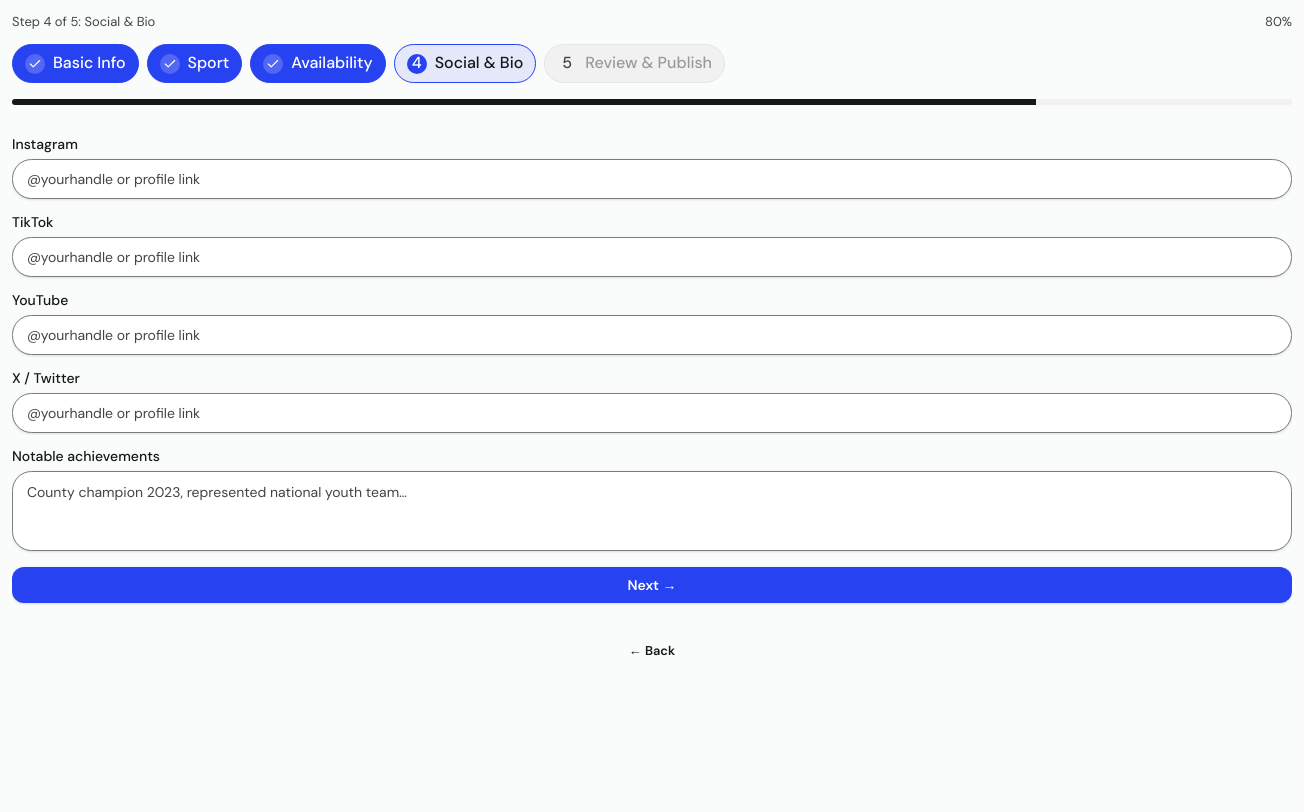
Test: ProfileWizard › step 4: rejects a wrong-host URL with a validation message and no save
Step 1. Type "https://facebook.com/jane" into the field labelled "Instagram" → (652, 179), box [12, 159, 1292, 199]
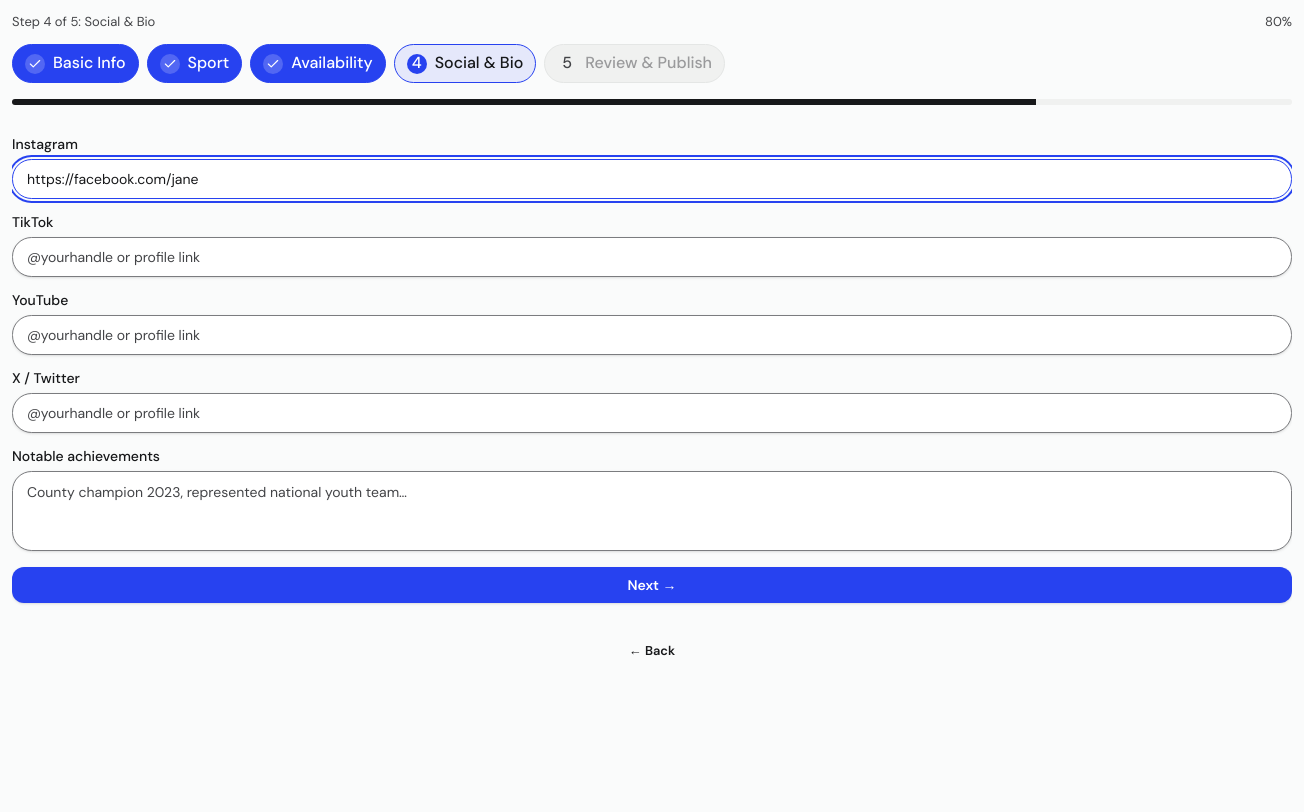
Step 2. Click the button "Next →" → click(652, 585), box [12, 567, 1292, 603]
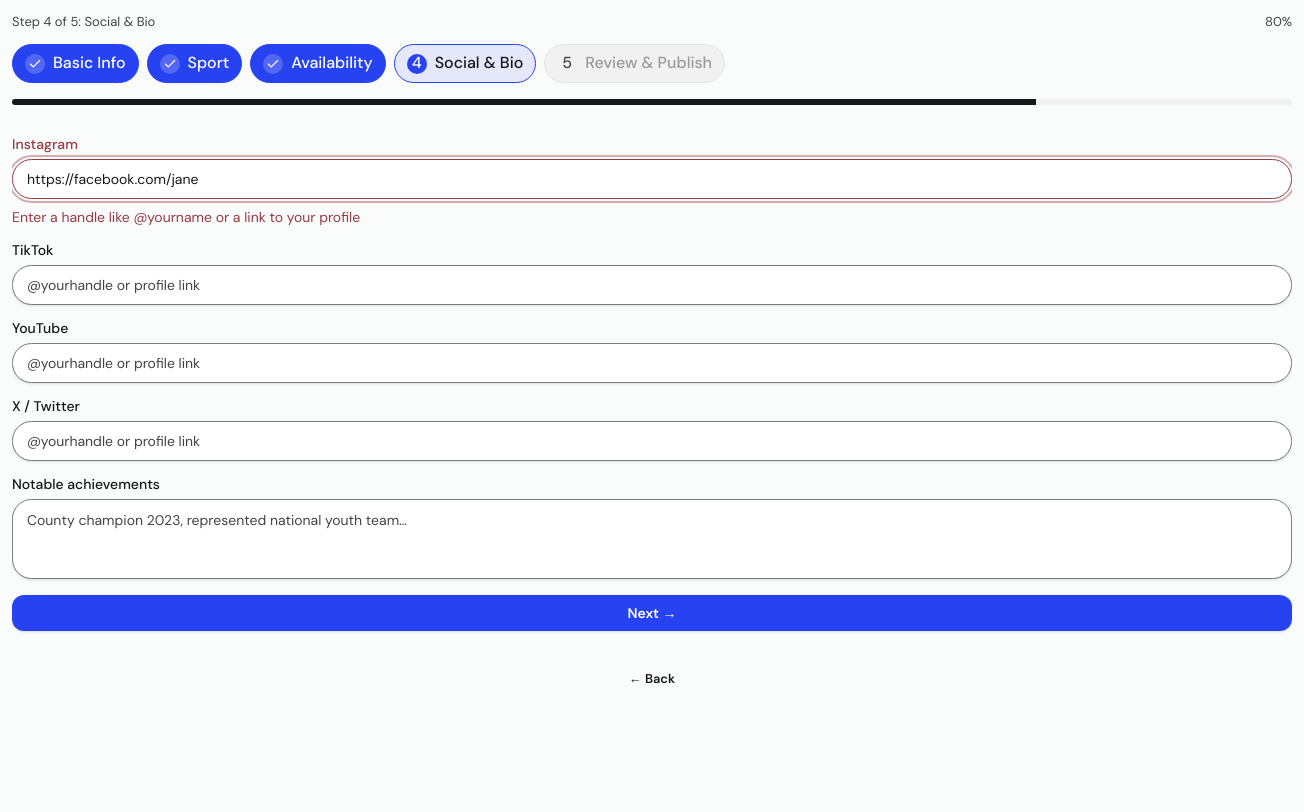
Expected: the text "Enter a handle like @yourname or a link to your profile" is shown, [12, 208, 360, 226]
